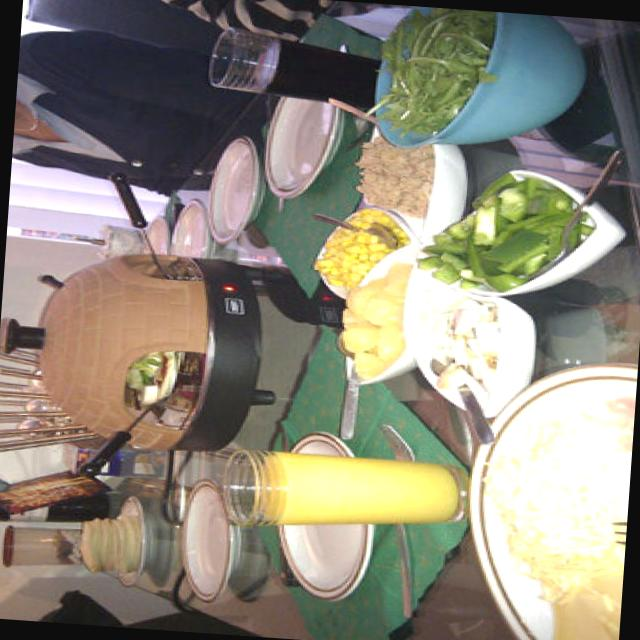pizza: (125, 351, 181, 406)
